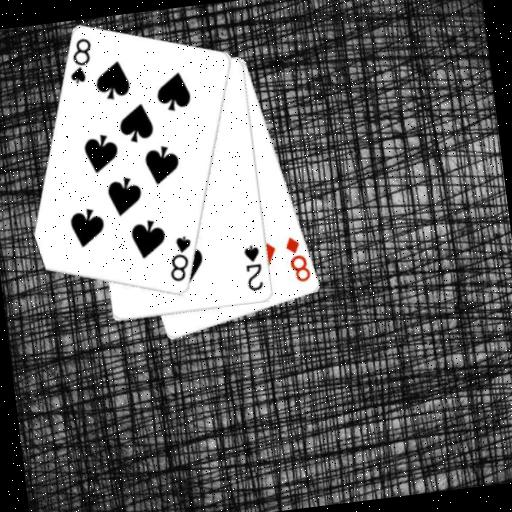2S: (240, 241, 267, 294)
8D: (281, 232, 314, 286)
8S: (163, 232, 198, 285), (63, 34, 97, 87)
